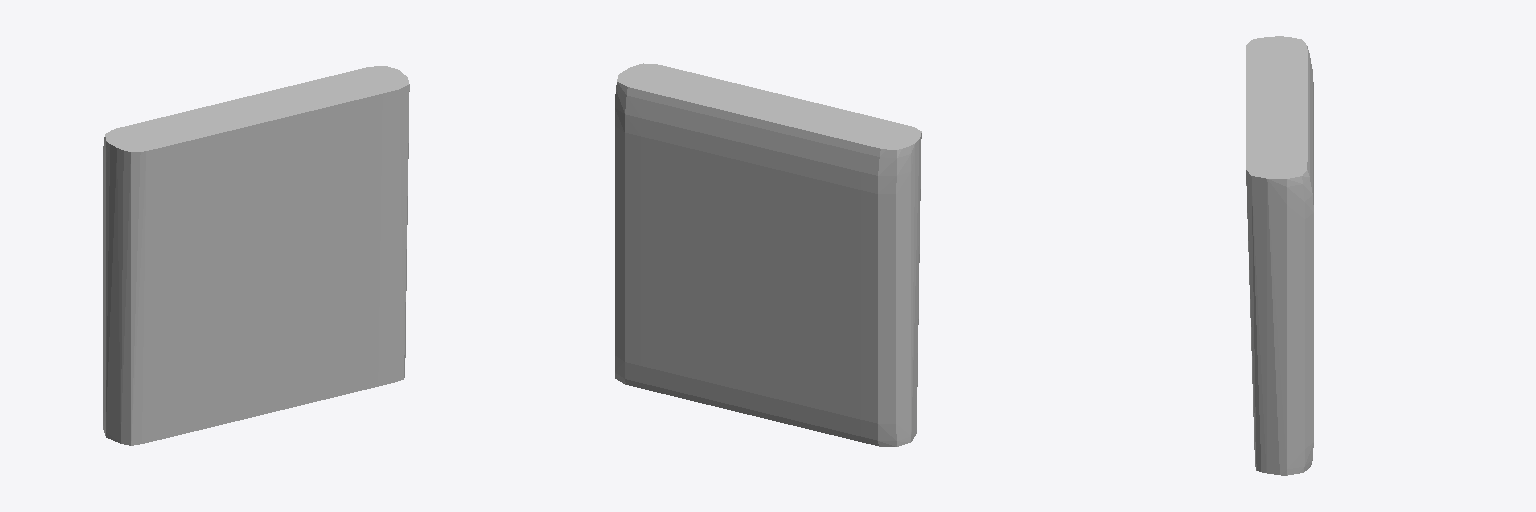
The model's file is Soap_Bottle_10_collision_2.obj.
3 views of the same model, side by side, from view 1: azimuth 30°, elevation 25°; view 2: azimuth 150°, elevation 25°; view 3: azimuth 270°, elevation 25° (orthographic).
Bounding box in the file's own units: 0.0543 × 0.0523 × 0.0109.